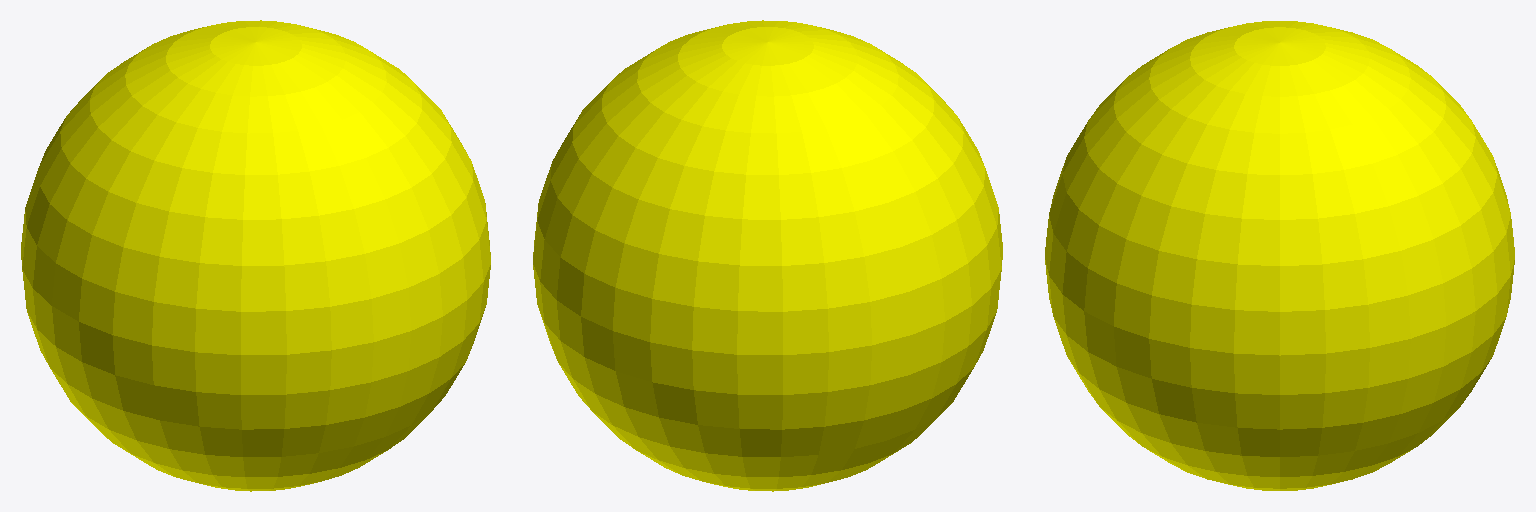
robot.urdf — ball_01:
<robot
  name="ball_01">
  <link name="ball_01">
    <inertial>
      <origin xyz="0.0 0.0 0.0" rpy="0 0 0"/>
      <mass value="1.0"/>
      <inertia ixx="1" ixy="0.0" ixz="0.0" iyy="1" iyz="0.0" izz="1" />
    </inertial>

    <visual>
      <geometry>
	<sphere radius="0.01" />
      </geometry>
      <material name="yellow">
        <color rgba="1 1 0 1" />
      </material>
     </visual>

<!--    <collision>
      <geometry>
	<sphere radius="0.01" />
      </geometry>
    </collision> -->

  </link>
</robot>

--- What the picture shows (computed from the rendered views, not written in the file) ---
Views: 3 orthographic renders of the robot side by side, from view 1: azimuth 30°, elevation 25°; view 2: azimuth 150°, elevation 25°; view 3: azimuth 270°, elevation 25°.
Robot: ball_01 — 1 links, 0 joints (none); root link ball_01; default pose: all joints at 0.
Links seen in each view (by area): view 1: ball_01; view 2: ball_01; view 3: ball_01.
Boxes of the visible links, box(x1,y1,x2,y2) form: ball_01: box(21, 20, 490, 491); ball_01: box(533, 20, 1002, 491); ball_01: box(1045, 21, 1514, 490).
Size in the robot's own frame: 0.02 by 0.02 by 0.02 metres.
Geometry: primitives only (box / cylinder / sphere), no mesh files.